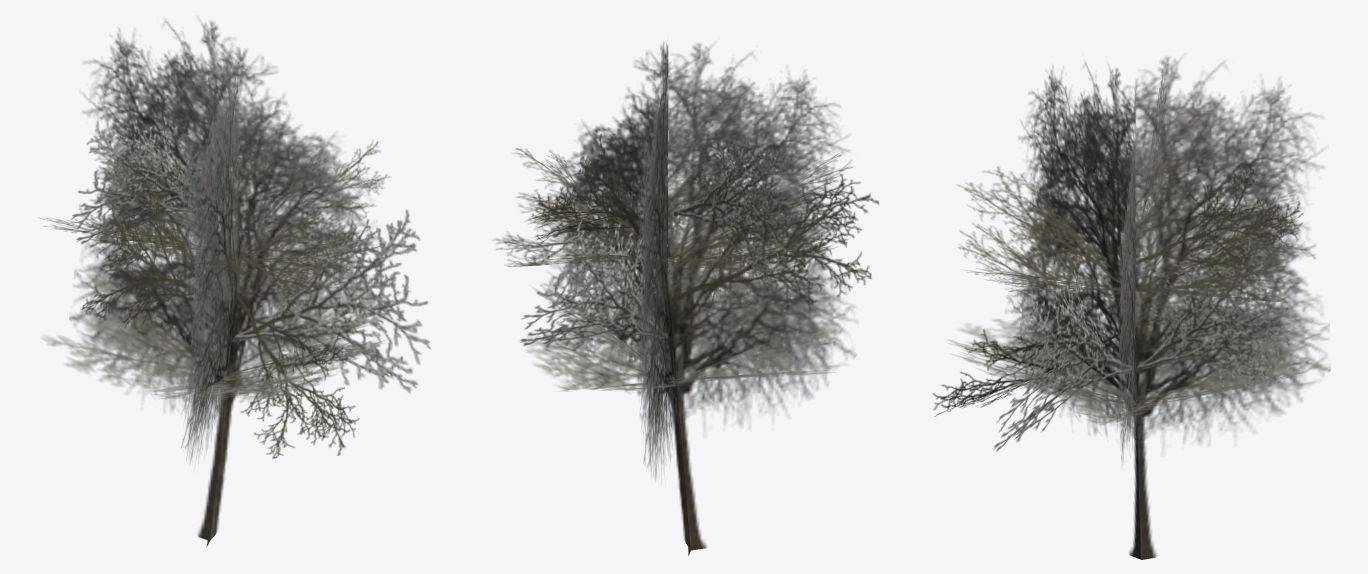
File: wtree_f.glb
The picture shows the model from 3 angles, left to right: view 1: azimuth 30°, elevation 25°; view 2: azimuth 150°, elevation 25°; view 3: azimuth 270°, elevation 25°; orthographic projection.
Visible parts, largest first — view 1: Winter_Trees_Planes.008, Winter_Trees_Branches.012; view 2: Winter_Trees_Planes.008, Winter_Trees_Branches.012; view 3: Winter_Trees_Planes.008, Winter_Trees_Branches.012.
Part boxes in pixels (x1,y1,x2,y2): Winter_Trees_Planes.008: (69, 19, 378, 547); Winter_Trees_Branches.012: (40, 78, 430, 458); Winter_Trees_Planes.008: (537, 42, 857, 556); Winter_Trees_Branches.012: (493, 133, 879, 391); Winter_Trees_Planes.008: (1005, 56, 1330, 559); Winter_Trees_Branches.012: (933, 72, 1325, 451).
Bounding box in the file's own units: 7.5 × 10.82 × 8.21.
Materials: 2 (2 with a texture image).
